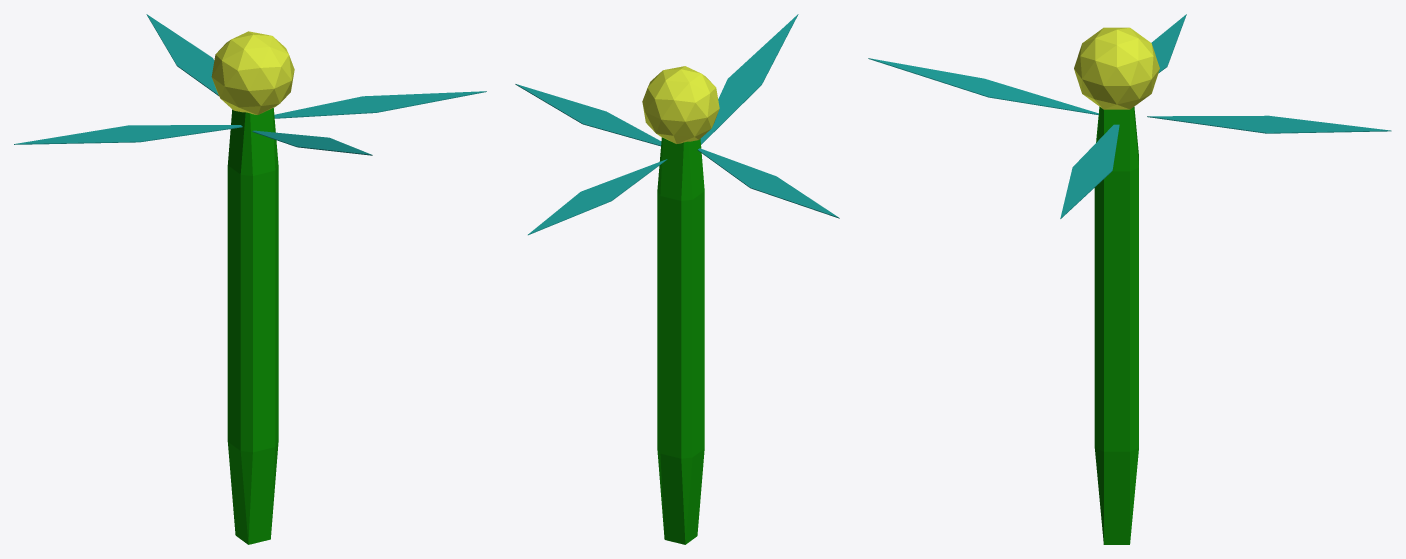
Rendered from Flower1.fbx.
3 views of the same model, side by side, from view 1: azimuth 30°, elevation 25°; view 2: azimuth 150°, elevation 25°; view 3: azimuth 270°, elevation 25° (orthographic). The views are drawn at different scales.
Parts seen in each view (by area): view 1: Flower1; view 2: Flower1; view 3: Flower1.
Part boxes in pixels (box(x1,y1,x2,y2)): Flower1: box(14, 14, 486, 544); Flower1: box(515, 14, 839, 544); Flower1: box(868, 14, 1391, 544).
Size of the model in its own units: 26.84 by 31.41 by 29.24.
